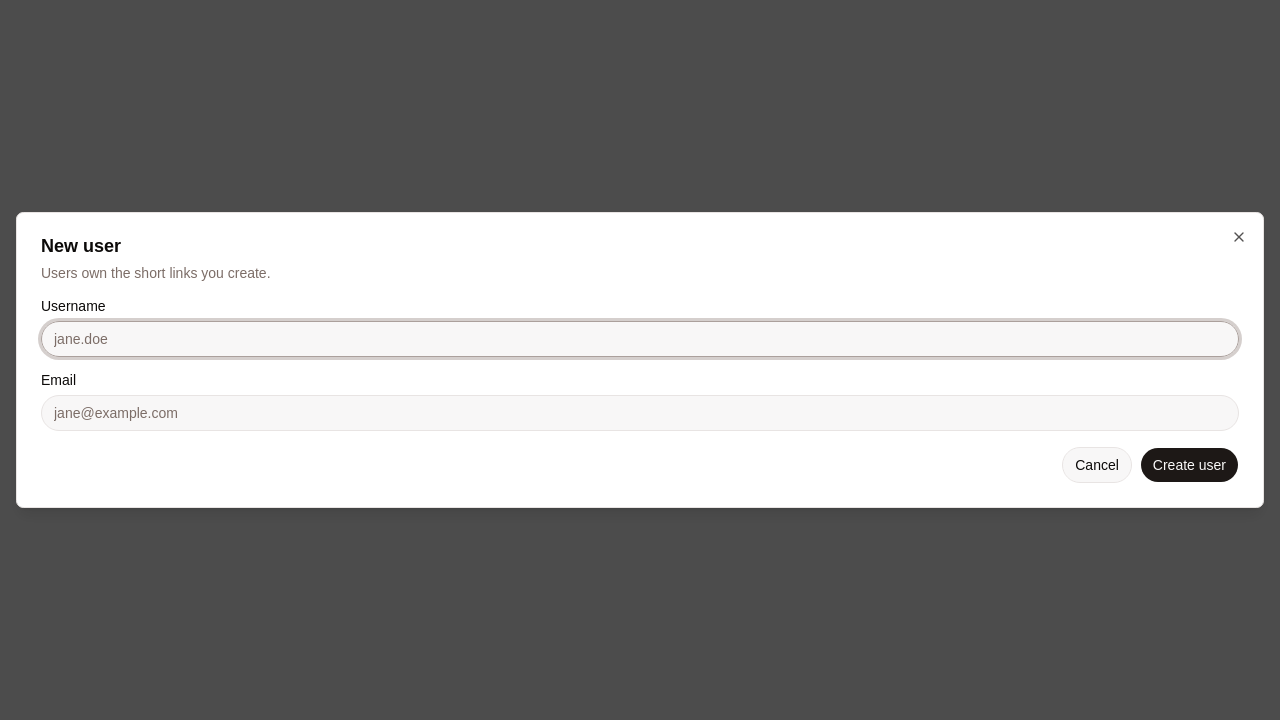
Test: UserDialog › validates required fields without creating a user
What coordinates should you click on to do the following:
click the button "Create user"
I would click on:
 (1189, 465)
Its box is [1140,447,1239,483].
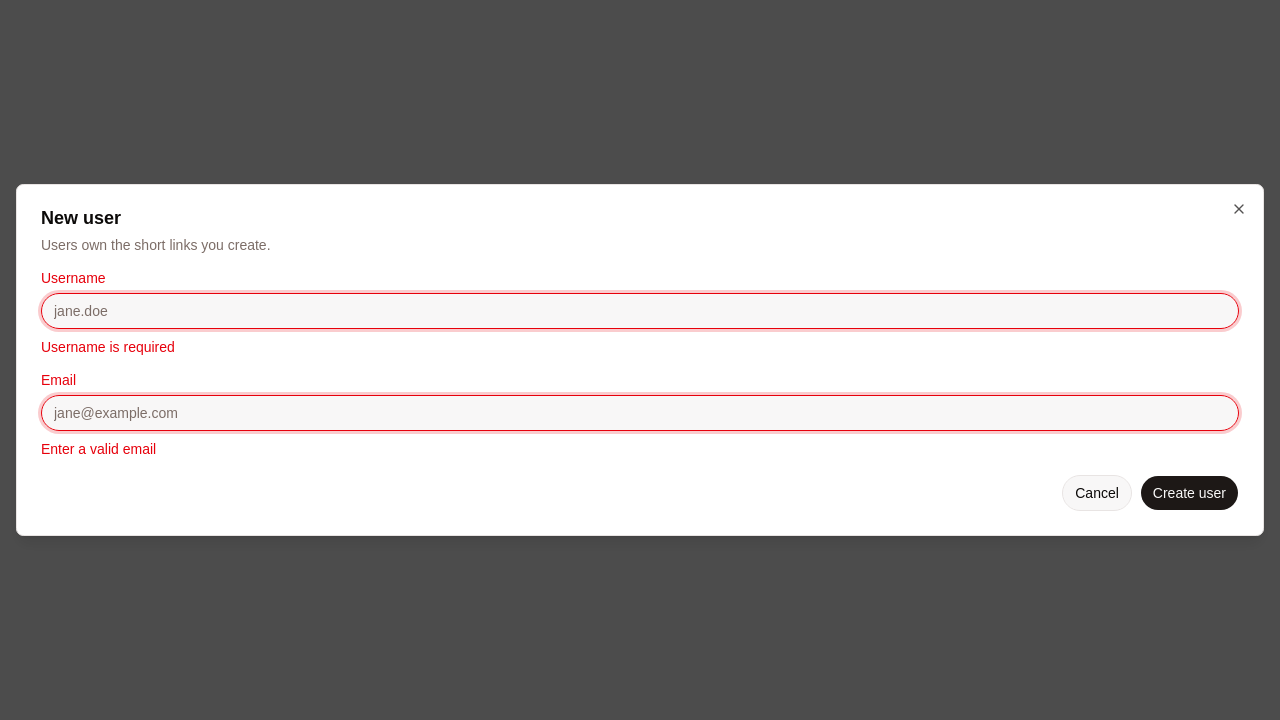
Expected: the text "Username is required" is shown, [41,339,175,355]
Expected: the text "Enter a valid email" is shown, [41,441,156,457]
